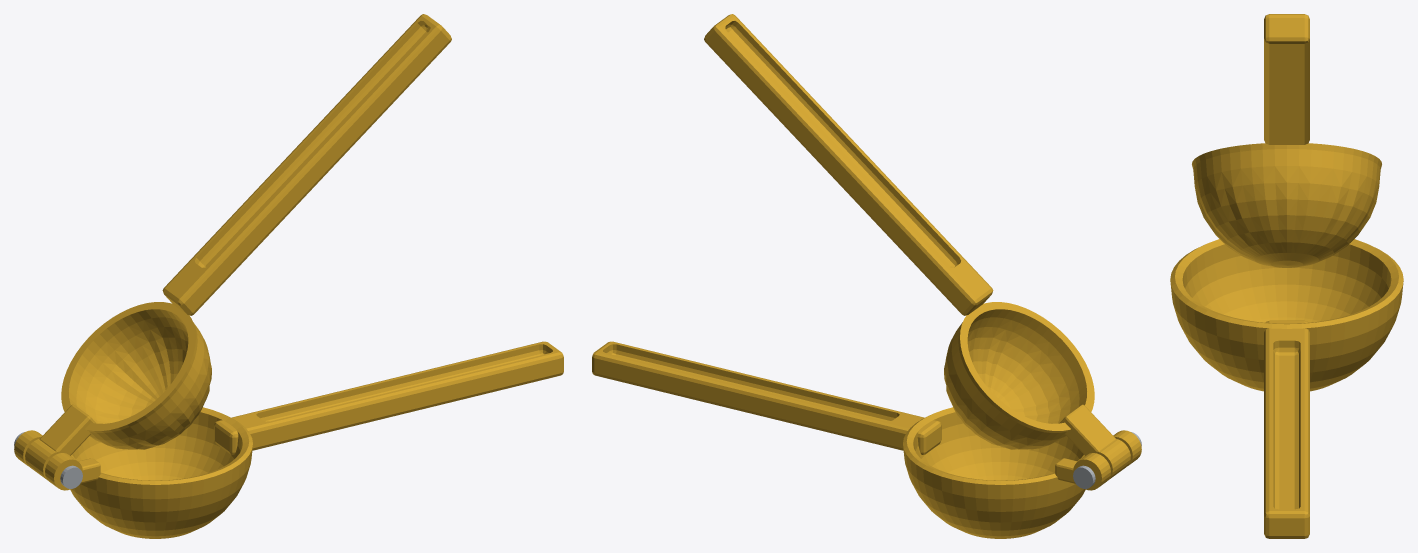
The picture shows the model from 3 angles, left to right: view 1: azimuth 30°, elevation 25°; view 2: azimuth 150°, elevation 25°; view 3: azimuth 270°, elevation 25°; orthographic projection. The views are drawn at different scales.
Parts seen in each view (by area): view 1: Upper nesting pressing cup, Upper long handle, Lower perforated receiver, Lower long handle, Upper middle hinge seat, Upper middle hinge, Lower left hinge; view 2: Upper nesting pressing cup, Upper long handle, Lower perforated receiver, Lower long handle, Upper middle hinge seat, Upper middle hinge, Lower right hinge; view 3: Lower perforated receiver, Upper nesting pressing cup, Lower long handle, Upper long handle.
Boxes of the visible parts, <box> form: Upper nesting pressing cup: <box>61,302,211,449</box>; Upper long handle: <box>162,14,451,315</box>; Lower perforated receiver: <box>70,407,252,538</box>; Lower long handle: <box>214,341,563,454</box>; Upper middle hinge seat: <box>39,404,96,455</box>; Upper middle hinge: <box>25,439,67,480</box>; Lower left hinge: <box>45,453,82,490</box>; Upper nesting pressing cup: <box>944,302,1094,449</box>; Upper long handle: <box>704,14,993,315</box>; Lower perforated receiver: <box>903,407,1085,538</box>; Lower long handle: <box>592,341,941,454</box>; Upper middle hinge seat: <box>1059,404,1116,455</box>; Upper middle hinge: <box>1089,439,1130,480</box>; Lower right hinge: <box>1073,453,1110,490</box>; Lower perforated receiver: <box>1170,239,1403,391</box>; Upper nesting pressing cup: <box>1192,143,1381,267</box>; Lower long handle: <box>1264,320,1309,538</box>; Upper long handle: <box>1264,14,1309,144</box>.
Bounding box in the file's own units: 0.2345 × 0.1899 × 0.076.
